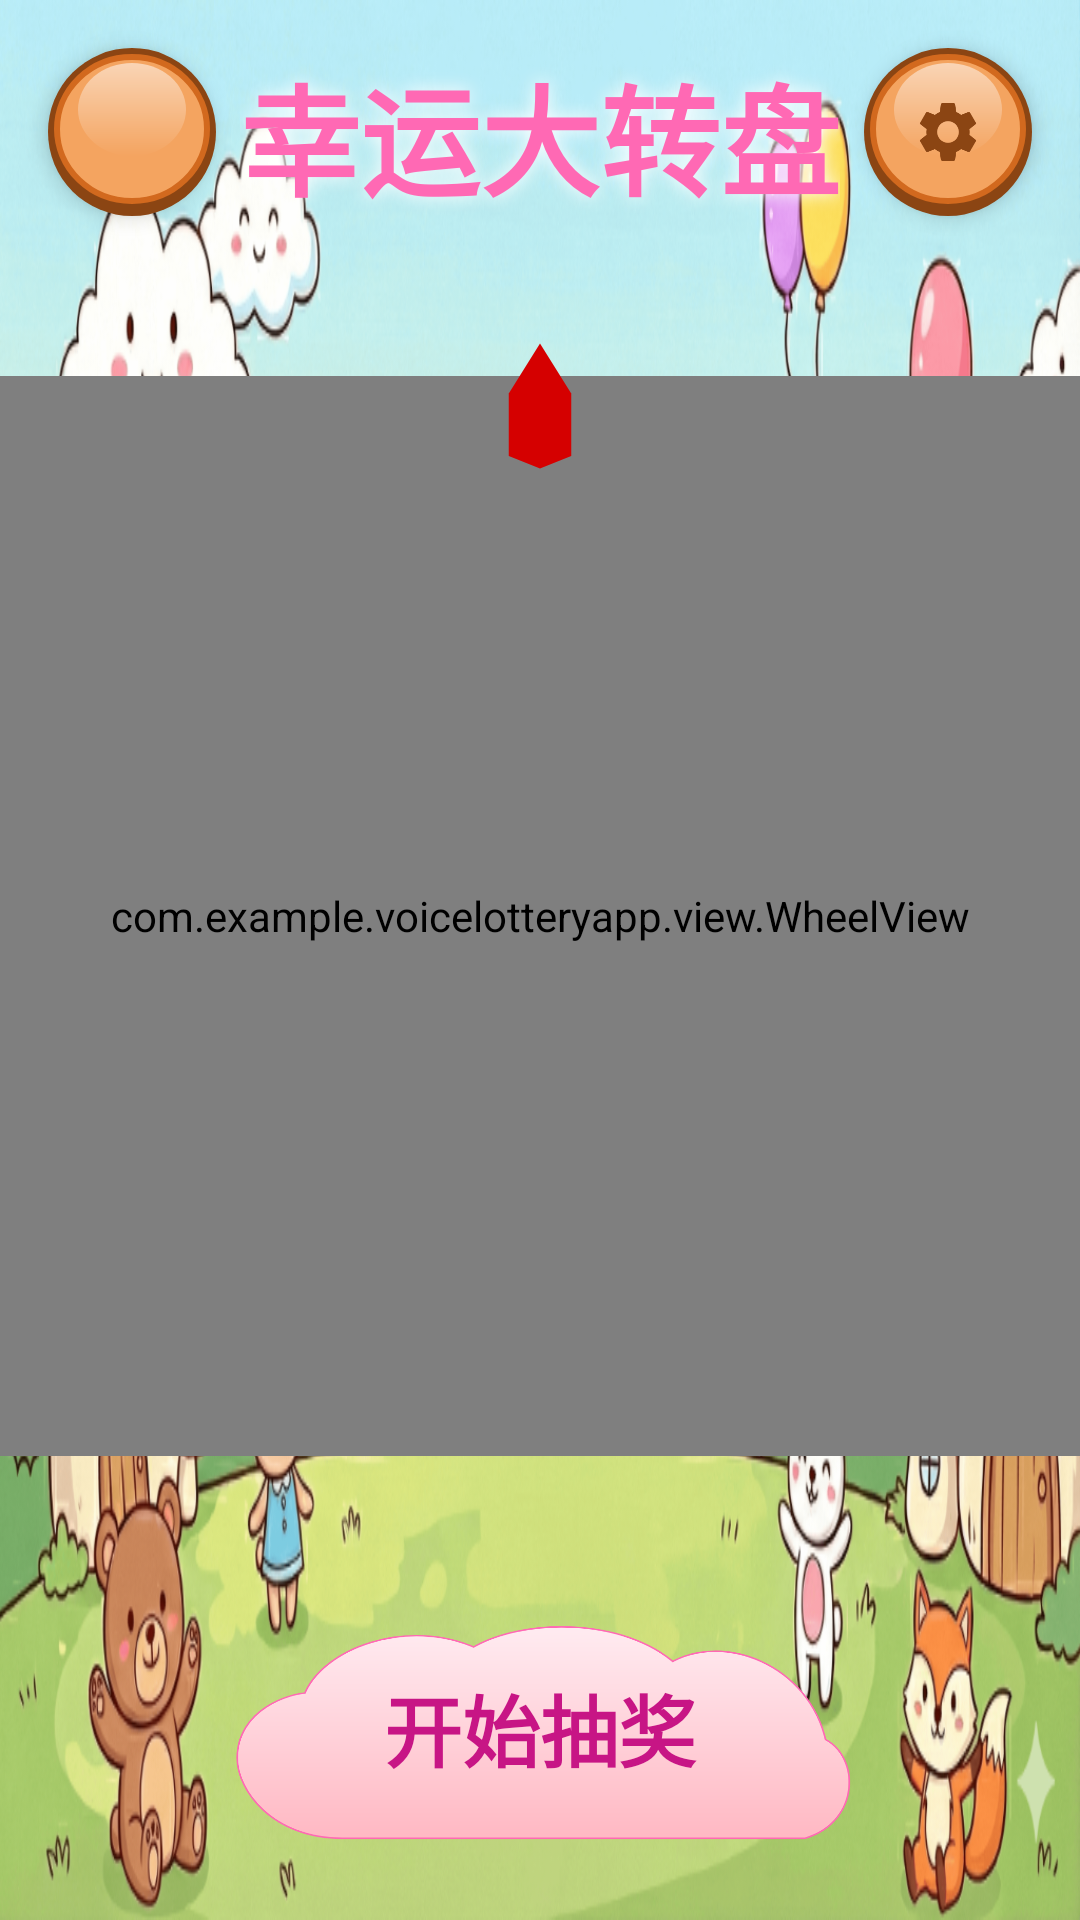

Screen size 1080w x 1920h. Icon name, then its center in pixels as (x,y):
settings: (948,132)
